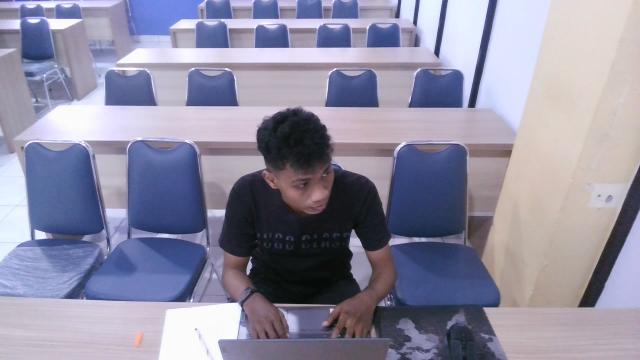Looking_Around: (215, 99, 397, 304)
